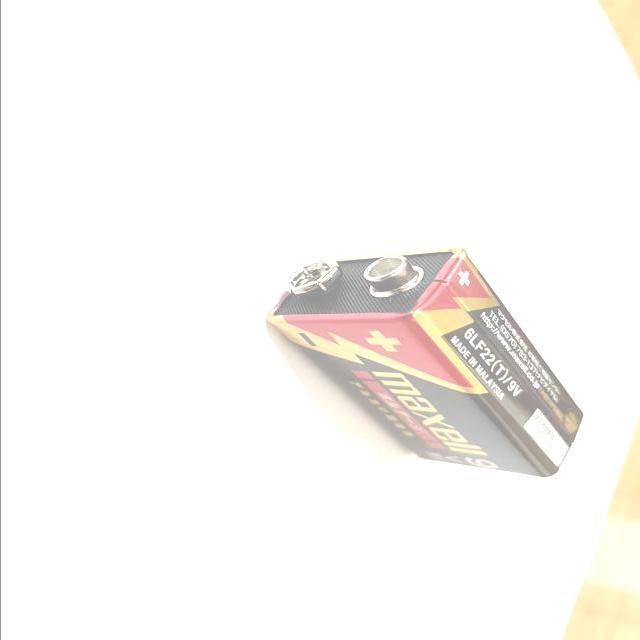9V: (264, 245, 586, 479)
